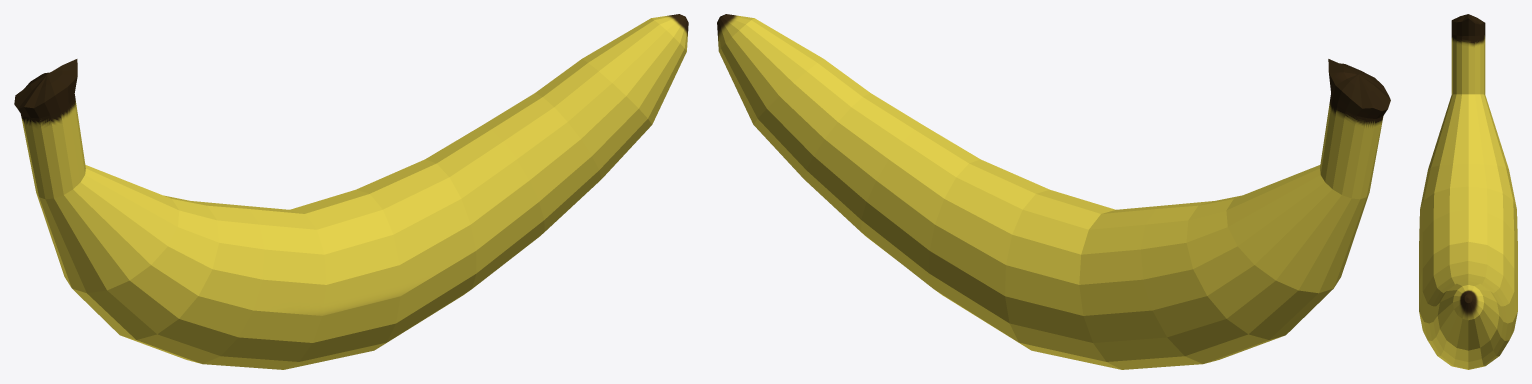
Rendered from Banana.fbx.
3 renders of one model, left to right at view 1: azimuth 30°, elevation 25°; view 2: azimuth 150°, elevation 25°; view 3: azimuth 270°, elevation 25°, orthographic. The views are drawn at different scales.
Parts seen in each view (by area): view 1: Banana; view 2: Banana; view 3: Banana.
Part boxes in pixels (left/top/right/bottom): Banana: left=14, top=14, right=688, bottom=369; Banana: left=717, top=14, right=1390, bottom=369; Banana: left=1419, top=14, right=1517, bottom=369.
Size of the model in its own units: 30.68 by 84.72 by 166.
